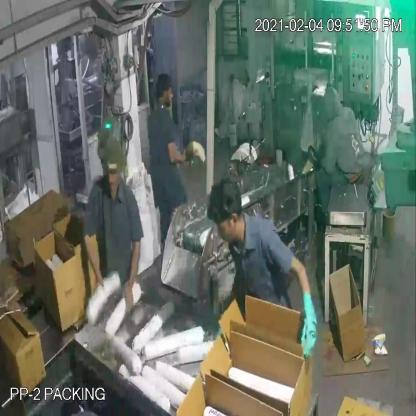glove: (296, 283, 318, 361)
no_glove: (121, 229, 146, 317), (80, 218, 106, 300), (165, 130, 193, 173)
